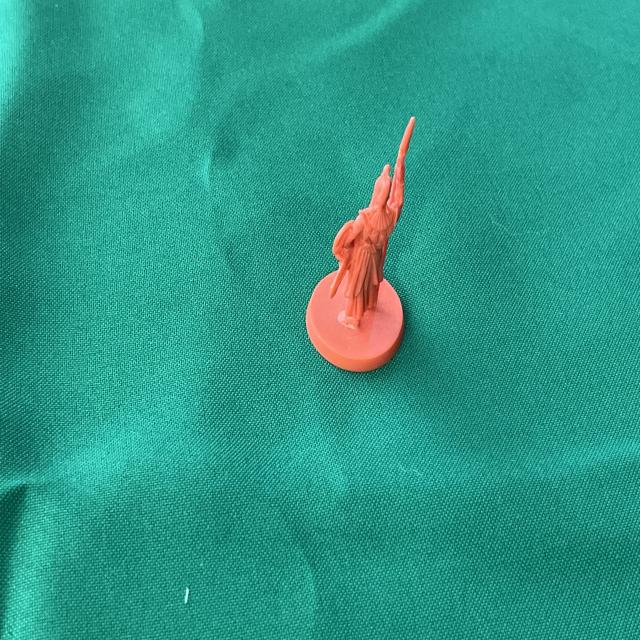amon_follower: (306, 117, 415, 372)
